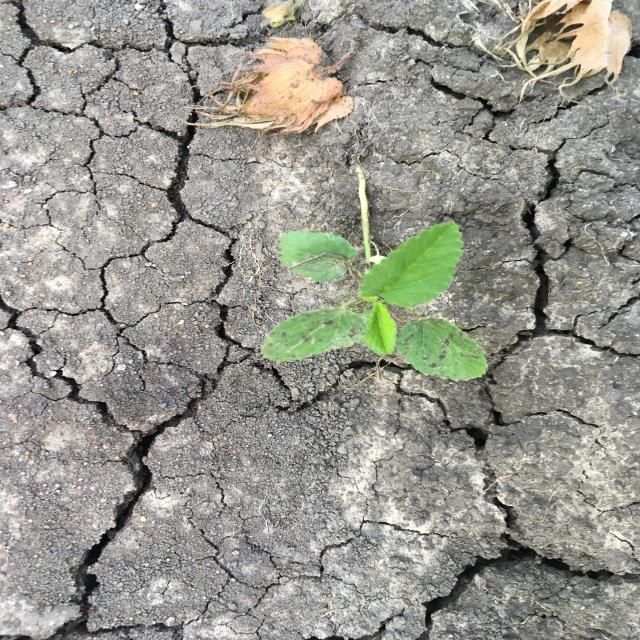PricklySida: (258, 218, 491, 384)
